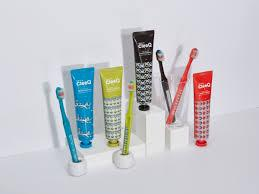toothpaste: (131, 26, 161, 113), (194, 68, 221, 149), (99, 64, 124, 151), (70, 66, 96, 146)
